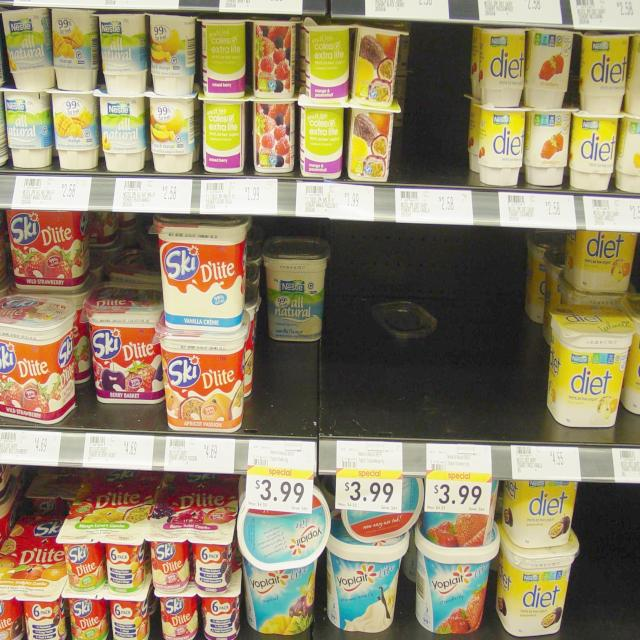empty_space: (328, 234, 544, 440), (404, 28, 468, 176), (585, 485, 640, 630), (262, 351, 326, 433)
